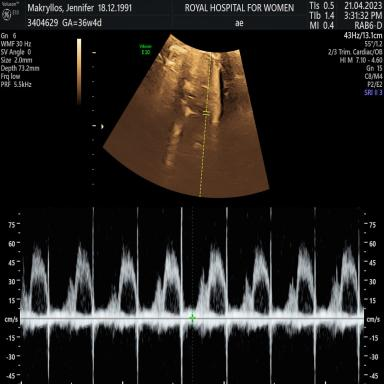Ultrasound-Waves: (28, 205, 361, 384)
